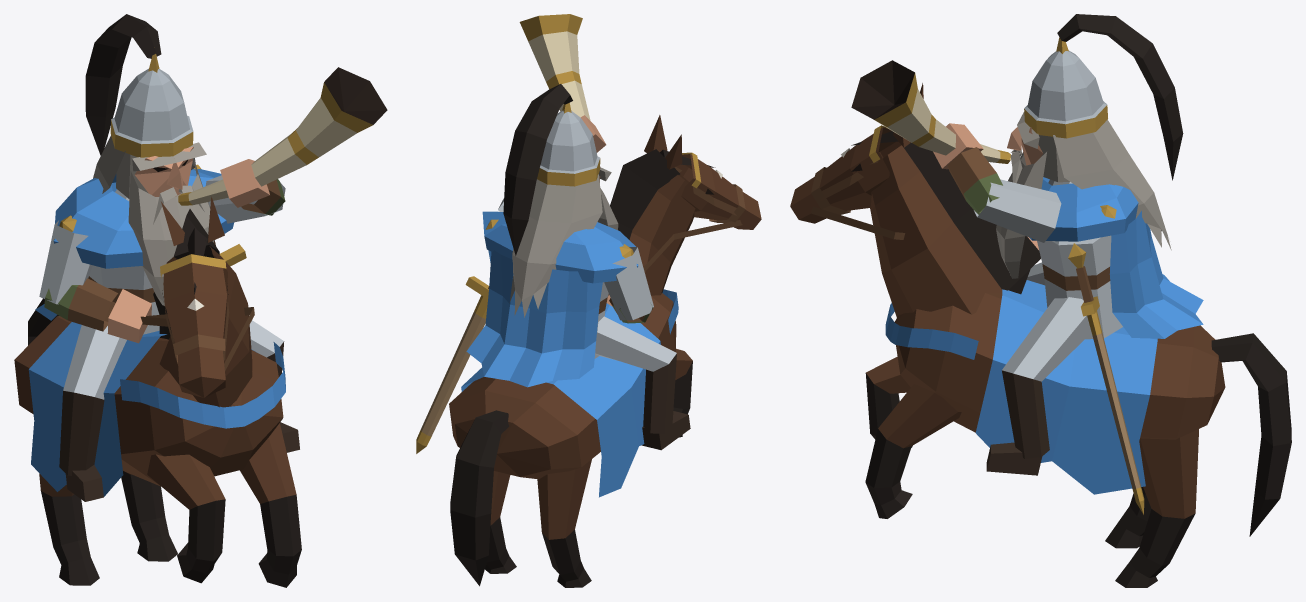
File: gamling-3.glb
3 renders of one model, left to right at view 1: azimuth 30°, elevation 25°; view 2: azimuth 150°, elevation 25°; view 3: azimuth 270°, elevation 25°, orthographic. The views are drawn at different scales.
Parts seen in each view (by area): view 1: gamling-3; view 2: gamling-3; view 3: gamling-3.
Boxes of the visible parts, bbox=[...] form: gamling-3: bbox=[14, 14, 387, 587]; gamling-3: bbox=[416, 14, 761, 587]; gamling-3: bbox=[790, 14, 1291, 587].
Size of the model in its own units: 0.8266 by 1.8 by 1.49.
